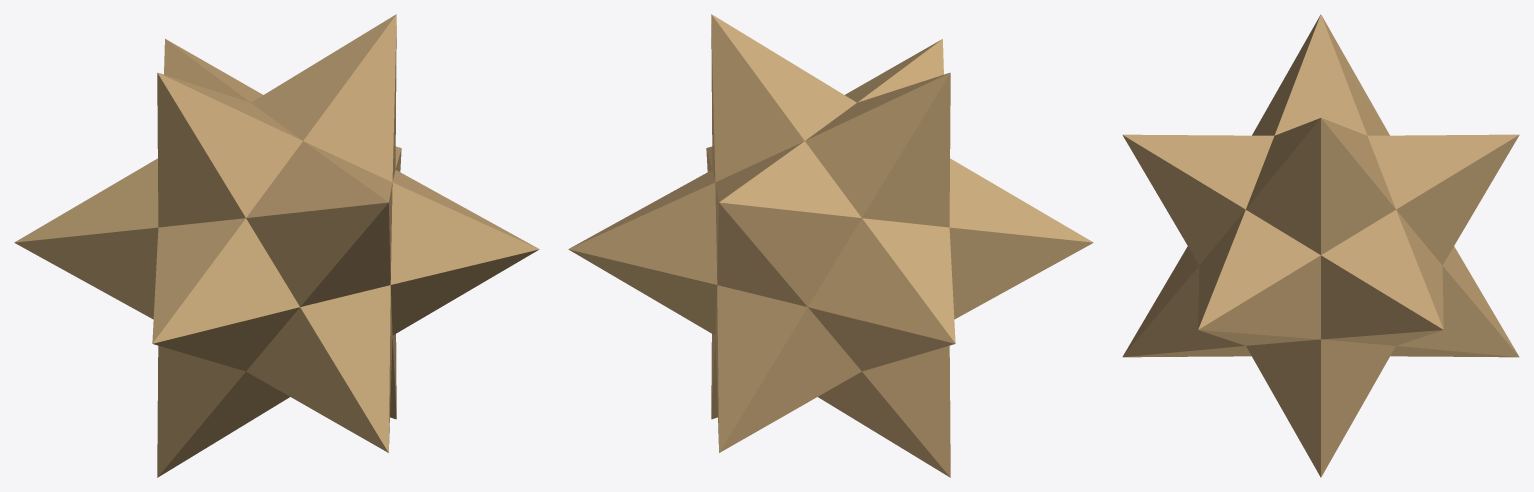
File: PequenioDodecaedroEstrellado_Kepler.glb
3 views of the same model, side by side, from view 1: azimuth 30°, elevation 25°; view 2: azimuth 150°, elevation 25°; view 3: azimuth 270°, elevation 25° (orthographic). The views are drawn at different scales.
Visible parts, largest first — view 1: Solid; view 2: Solid; view 3: Solid.
Boxes of the visible parts, box(x1,y1,x2,y2) form: Solid: box(14, 14, 539, 477); Solid: box(568, 14, 1093, 477); Solid: box(1122, 14, 1519, 477).
Bounding box in the file's own units: 3.05 × 3.05 × 3.05.
